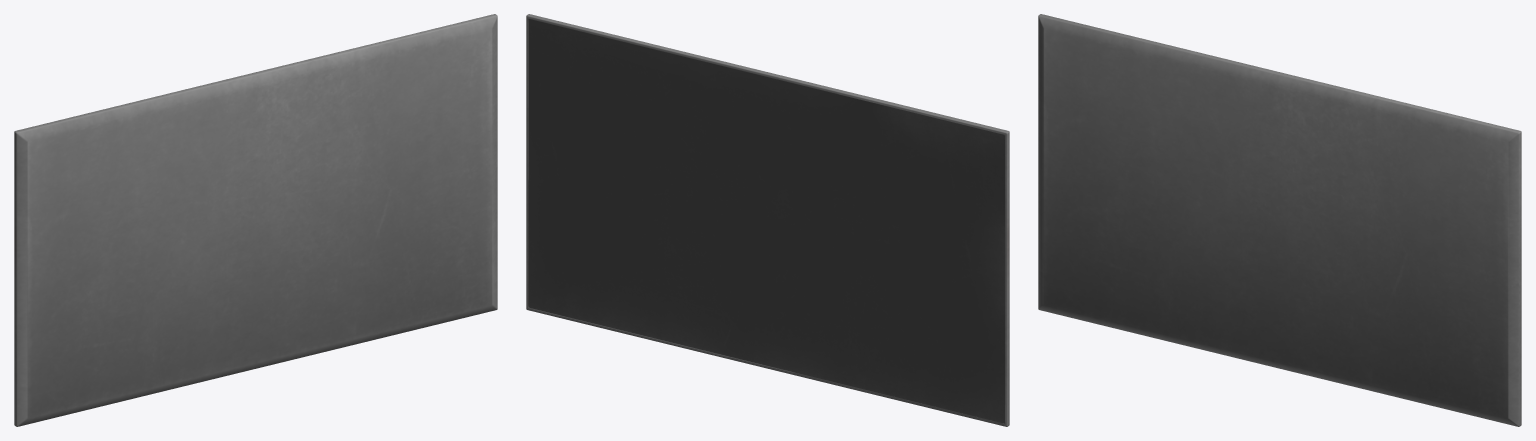
File: Tv 85 Inch.FBX
The picture shows the model from 3 angles, left to right: view 1: azimuth 30°, elevation 25°; view 2: azimuth 150°, elevation 25°; view 3: azimuth 330°, elevation 25°; orthographic projection.
Visible parts, largest first — view 1: TV 85 inch; view 2: TV 85 inch (×2); view 3: TV 85 inch.
Part boxes in pixels (x1,y1,x2,y2): TV 85 inch: (14, 14, 497, 426); TV 85 inch (×2): (526, 14, 1009, 426); TV 85 inch: (1038, 14, 1521, 426).
Size of the model in its own units: 2 by 0.0382 by 1.17.
